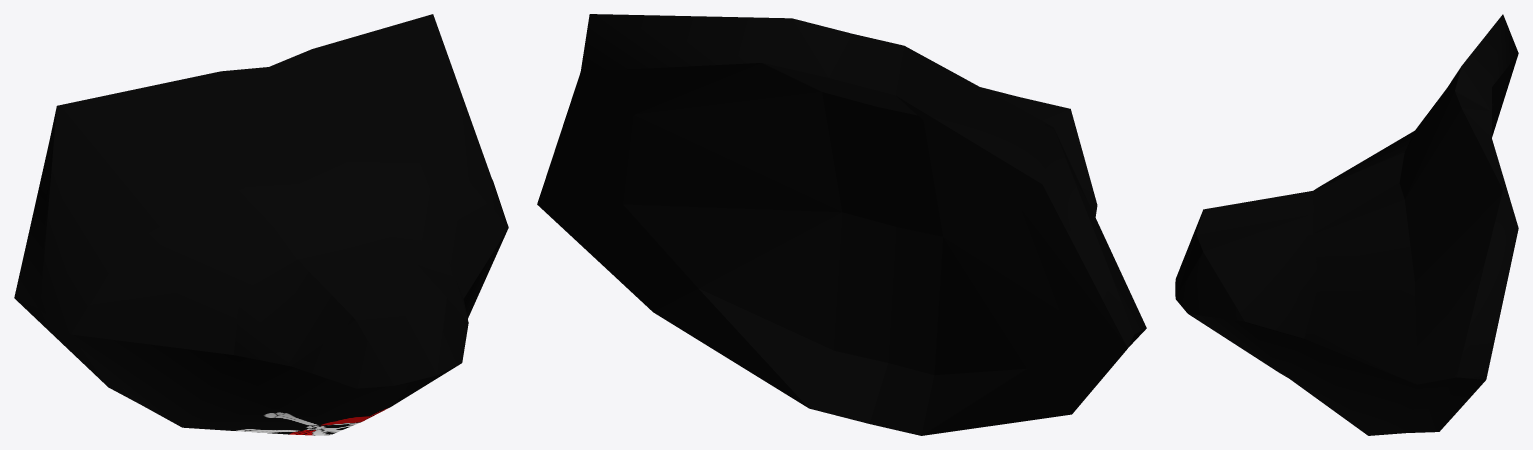
Rendered from PIGRATE_SOMBRERO.obj.
The picture shows the model from 3 angles, left to right: view 1: azimuth 30°, elevation 25°; view 2: azimuth 150°, elevation 25°; view 3: azimuth 270°, elevation 25°; orthographic projection. The views are drawn at different scales.
Parts seen in each view (by area): view 1: Plane007; view 2: Plane007; view 3: Plane007.
Boxes of the visible parts, x1,y1,x2,y2 form: Plane007: (14,14,508,435); Plane007: (537,14,1146,435); Plane007: (1175,14,1518,435).
Size of the model in its own units: 221 by 146 by 143.
1 material, 1 textured.
